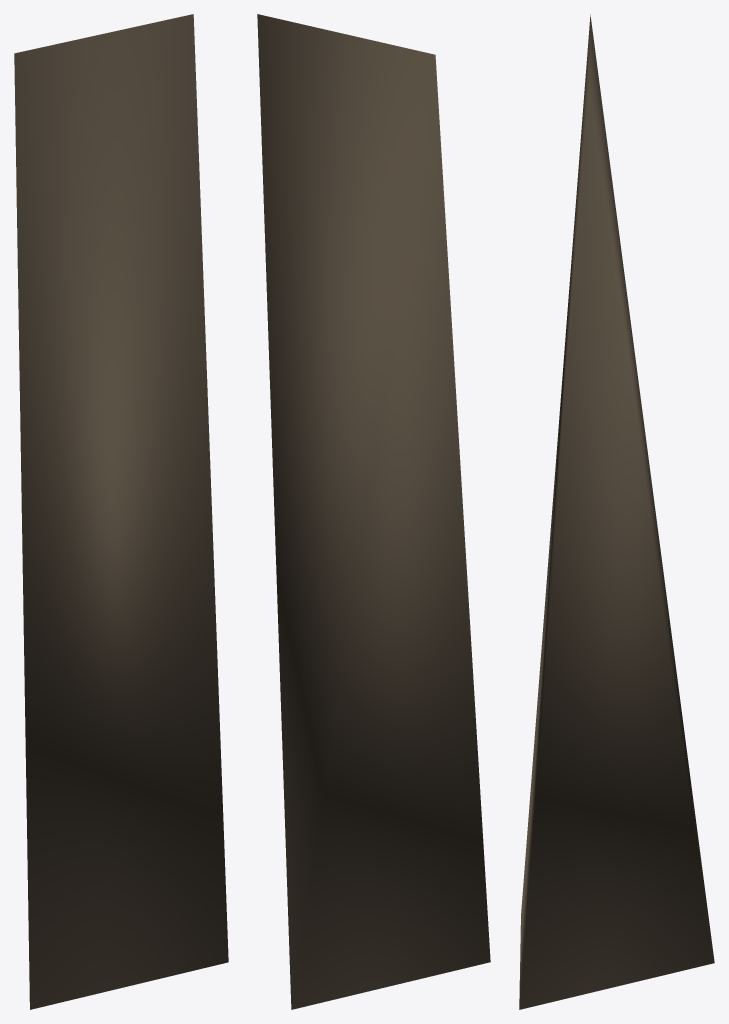
Rendered from CONIFEROUSstolbCF1-1-GO.fbx.
3 renders of one model, left to right at view 1: azimuth 30°, elevation 25°; view 2: azimuth 150°, elevation 25°; view 3: azimuth 270°, elevation 25°, orthographic.
Parts seen in each view (by area): view 1: Cylinder.012; view 2: Cylinder.012; view 3: Cylinder.012.
Boxes of the visible parts, x1=… form: Cylinder.012: x1=14, y1=14, x2=228, y2=1009; Cylinder.012: x1=257, y1=14, x2=490, y2=1009; Cylinder.012: x1=519, y1=14, x2=714, y2=1009.
Bounding box in the file's own units: 38.69 × 173 × 33.59.
